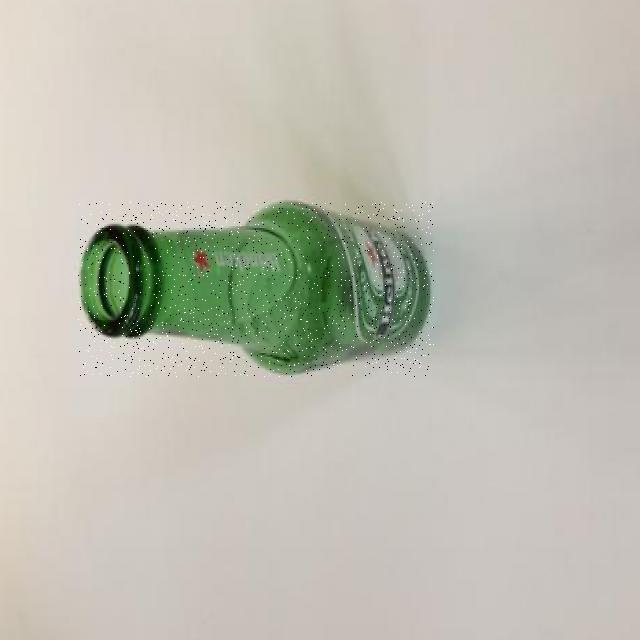glass: (78, 202, 434, 377)
